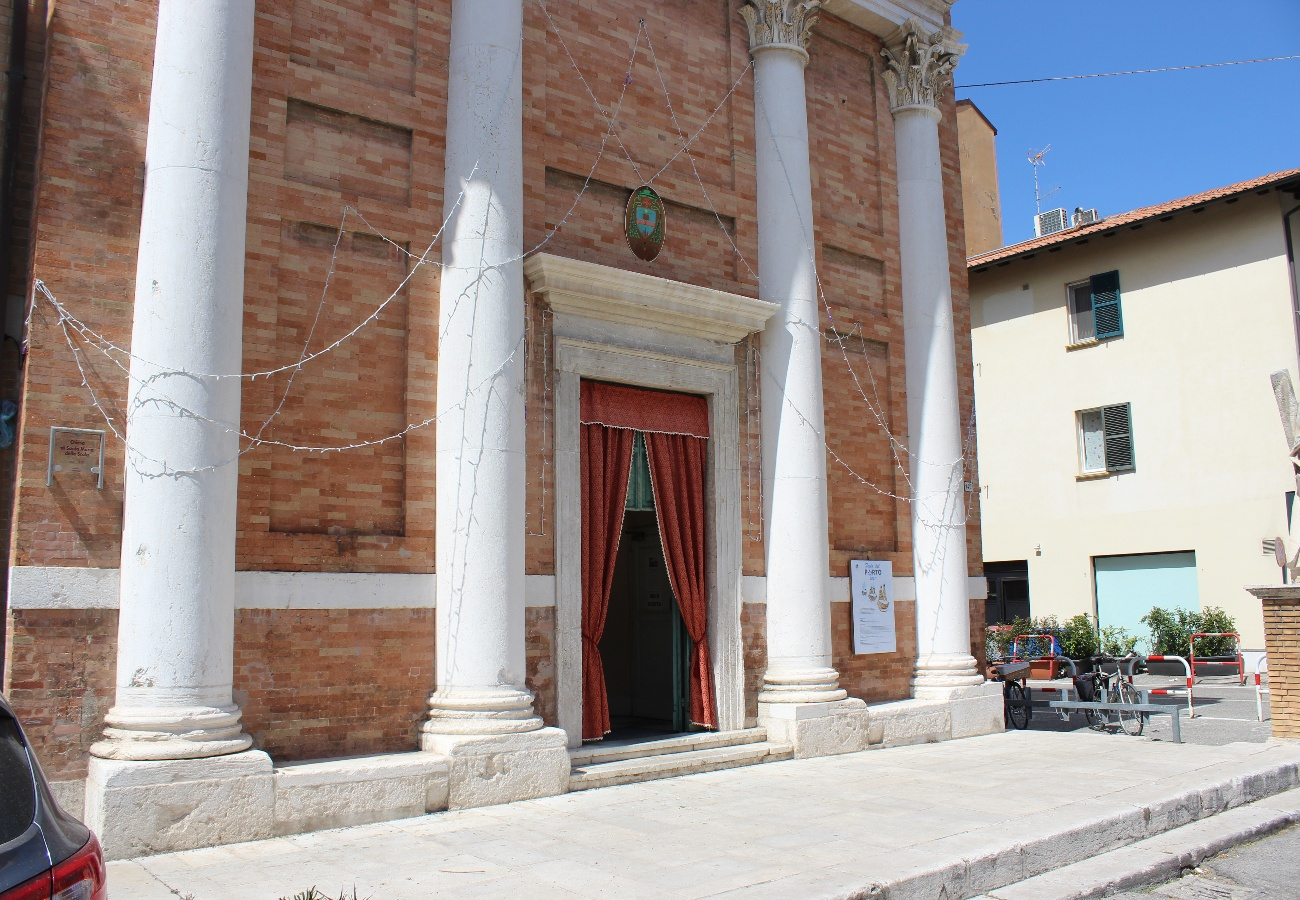Parrocchia Santa Maria: (1, 1, 1006, 832)
